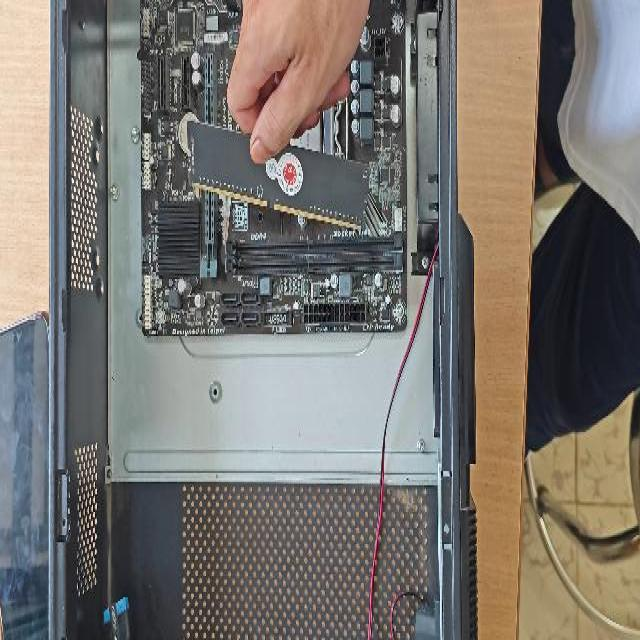Mainboard: (135, 0, 411, 340)
RAM: (186, 117, 370, 236)
